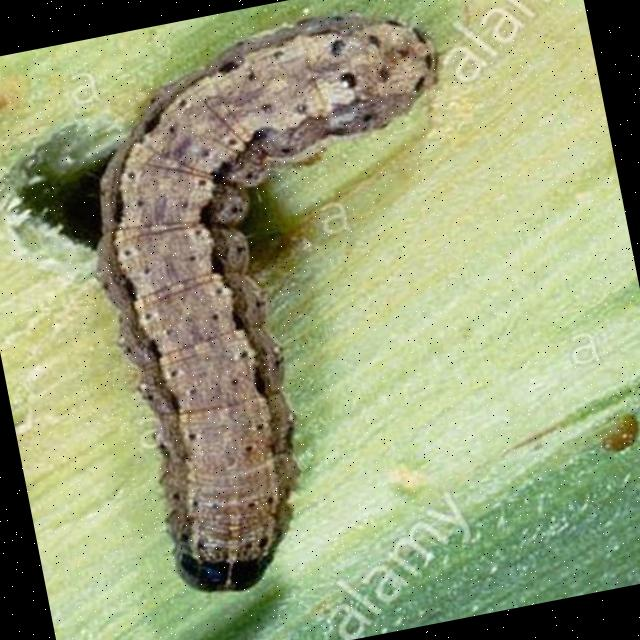worm: (54, 1, 532, 611)
